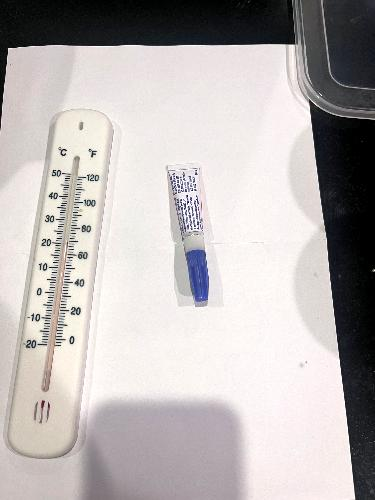thermo: (3, 104, 118, 453)
